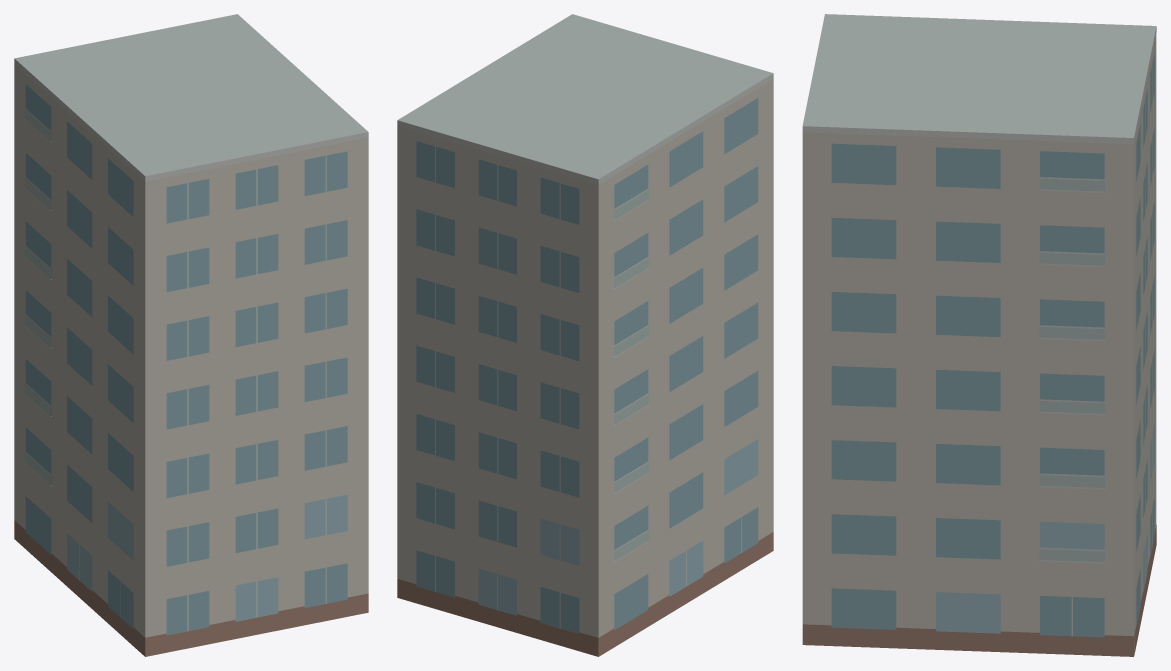
Rendered from survey-upis-33029199.glb.
3 renders of one model, left to right at view 1: azimuth 30°, elevation 25°; view 2: azimuth 150°, elevation 25°; view 3: azimuth 270°, elevation 25°, orthographic. The views are drawn at different scales.
Visible parts, largest first — view 1: survey-upis-33029199.tmp; view 2: survey-upis-33029199.tmp; view 3: survey-upis-33029199.tmp.
Part boxes in pixels (left/top/right/bottom): survey-upis-33029199.tmp: left=14, top=14, right=368, bottom=656; survey-upis-33029199.tmp: left=397, top=14, right=773, bottom=656; survey-upis-33029199.tmp: left=802, top=14, right=1156, bottom=656.
Bounding box in the file's own units: 10.76 × 20.95 × 12.97.
